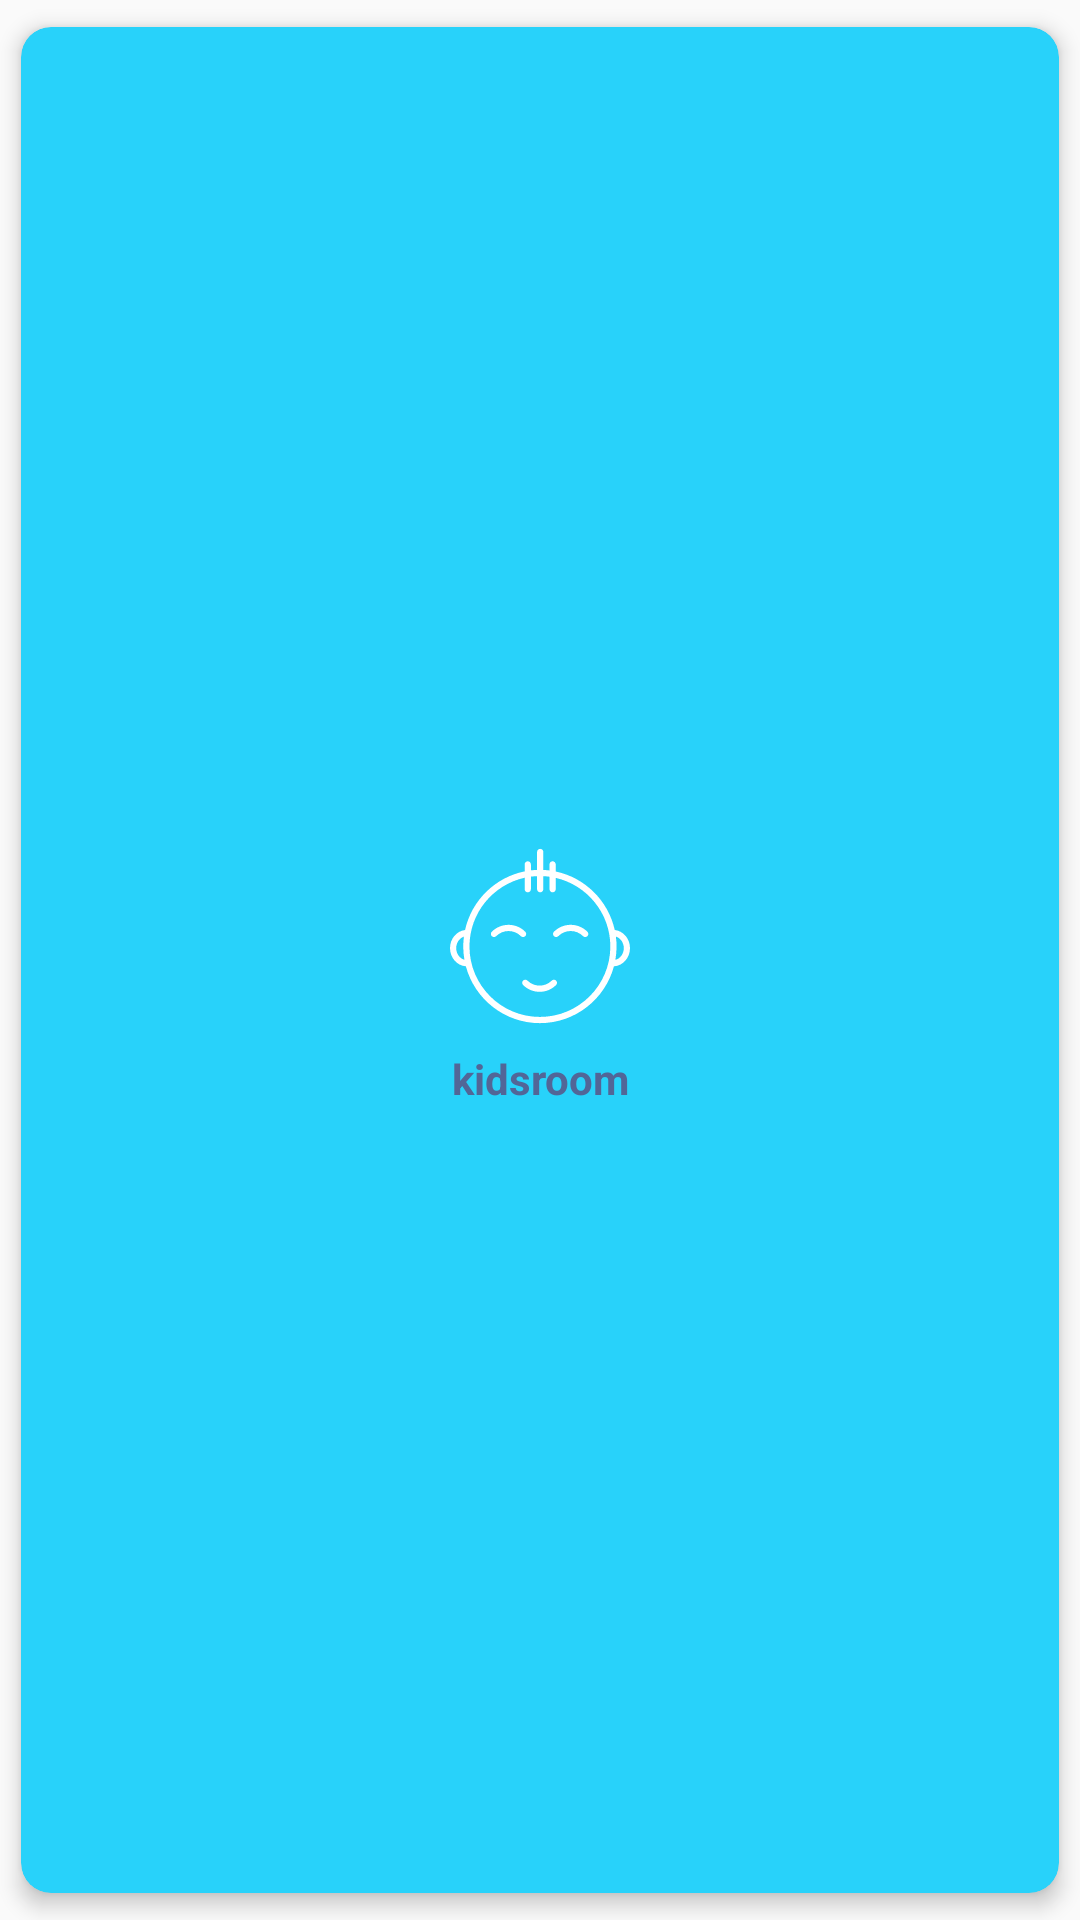

Screen size 1080×1920. Icon name, then its center in pixels as [x,y]:
baby: [540,936]
